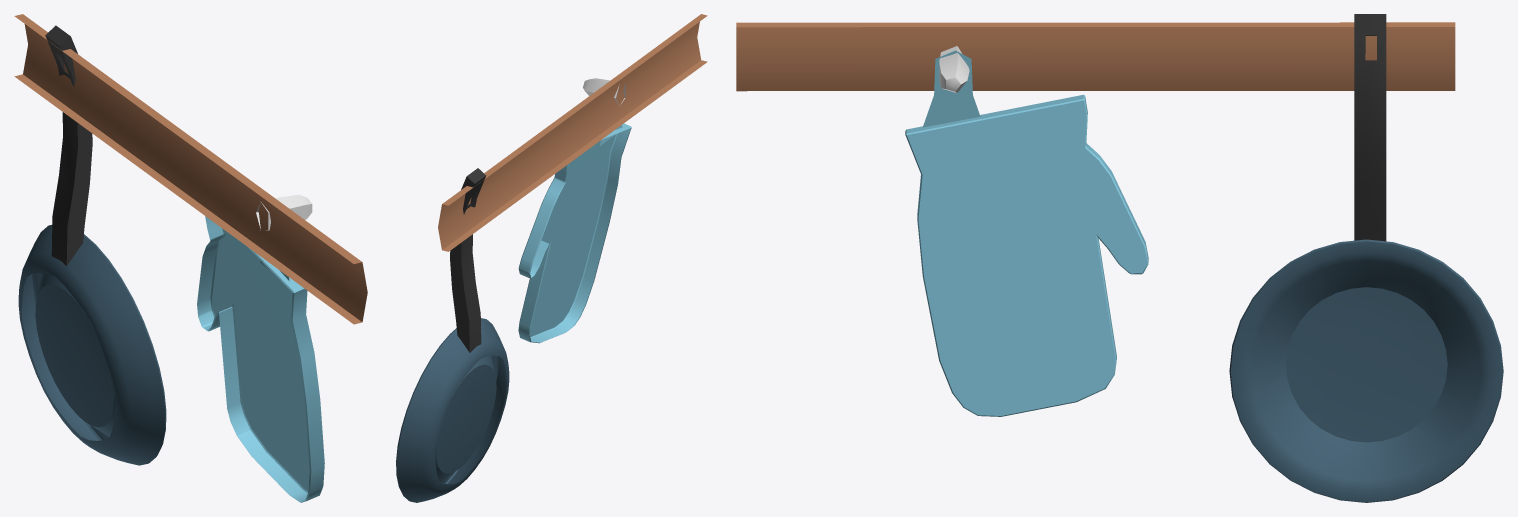
Rendered from Perchero.glb.
3 views of the same model, side by side, from view 1: azimuth 30°, elevation 25°; view 2: azimuth 150°, elevation 25°; view 3: azimuth 270°, elevation 25° (orthographic). The views are drawn at different scales.
Visible parts, largest first — view 1: Perchero; view 2: Perchero; view 3: Perchero.
Part boxes in pixels (x1,y1,x2,y2): Perchero: (14, 14, 367, 502); Perchero: (396, 14, 707, 502); Perchero: (736, 14, 1503, 502).
Size of the model in its own units: 0.235 by 1.27 by 1.9.
